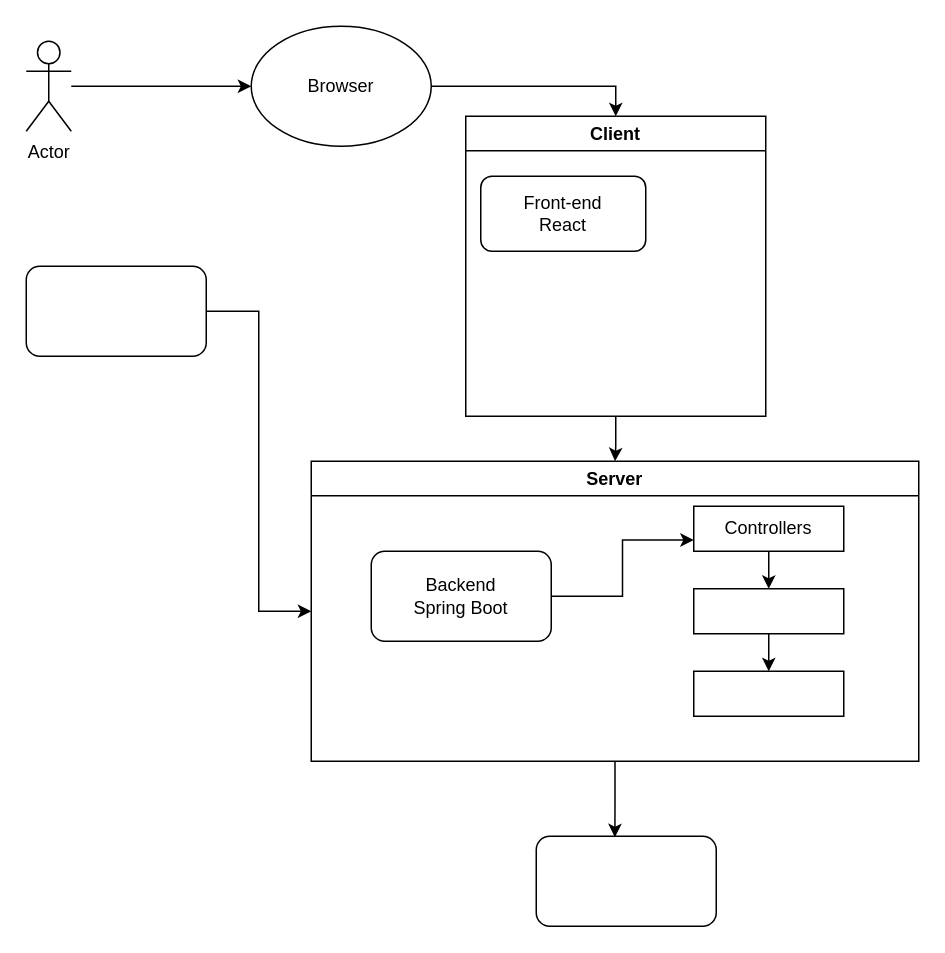
Some shapes in this 945 by 953 pixel diagram are drawn without their labels. The centre of each missing label's shape, as x and y in pixels:
"External Service" goes at point 115,310.
"MongoDB" goes at point 625,880.
"Repositories" goes at point 768,693.
"Services" goes at point 768,610.
